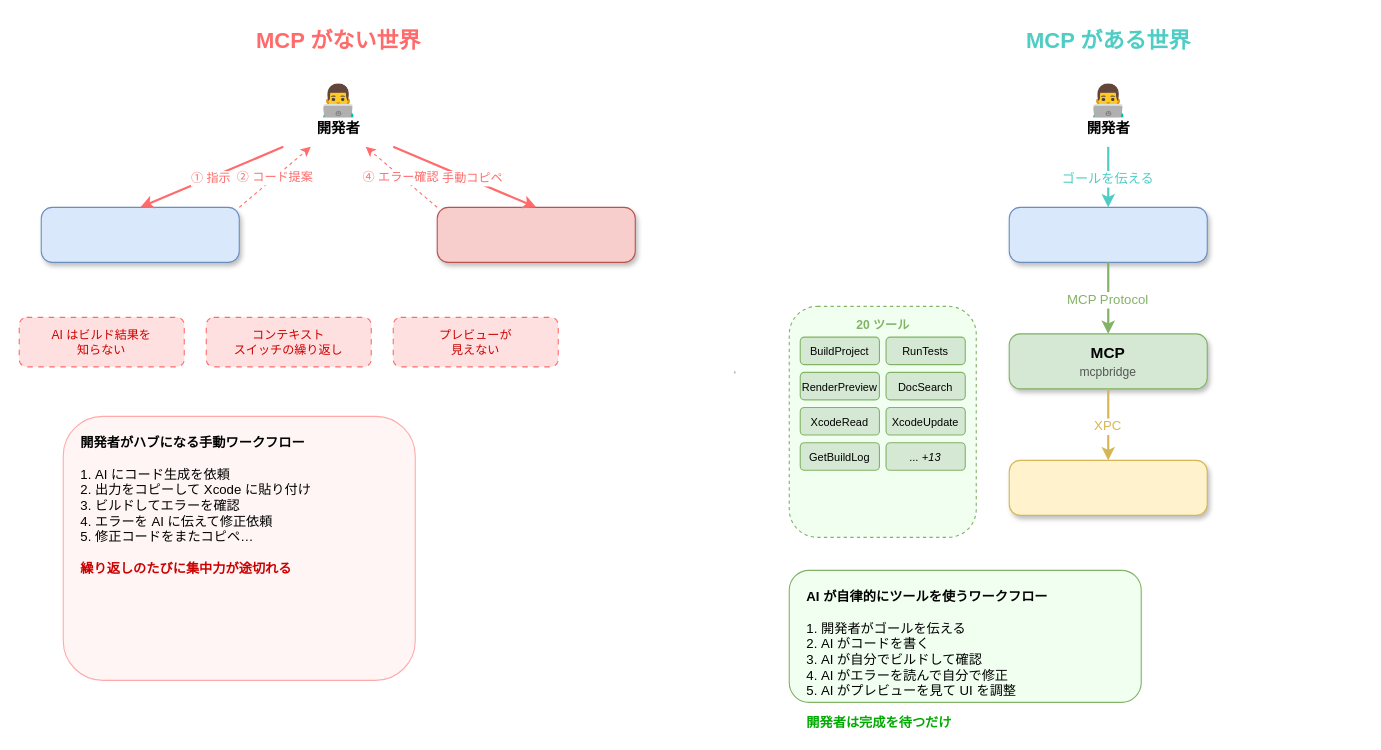
The diagram is 1381 pixels wide and 750 high, and some of its shapes have lost their labels. Each missing label, with the centre of its shape:
"AI エージェント" belongs at (141,236).
"AI エージェント Claude Code" belongs at (1109,236).
"Xcode" belongs at (537,236).
"Xcode 26.3 20 MCP ツール" belongs at (1109,489).
